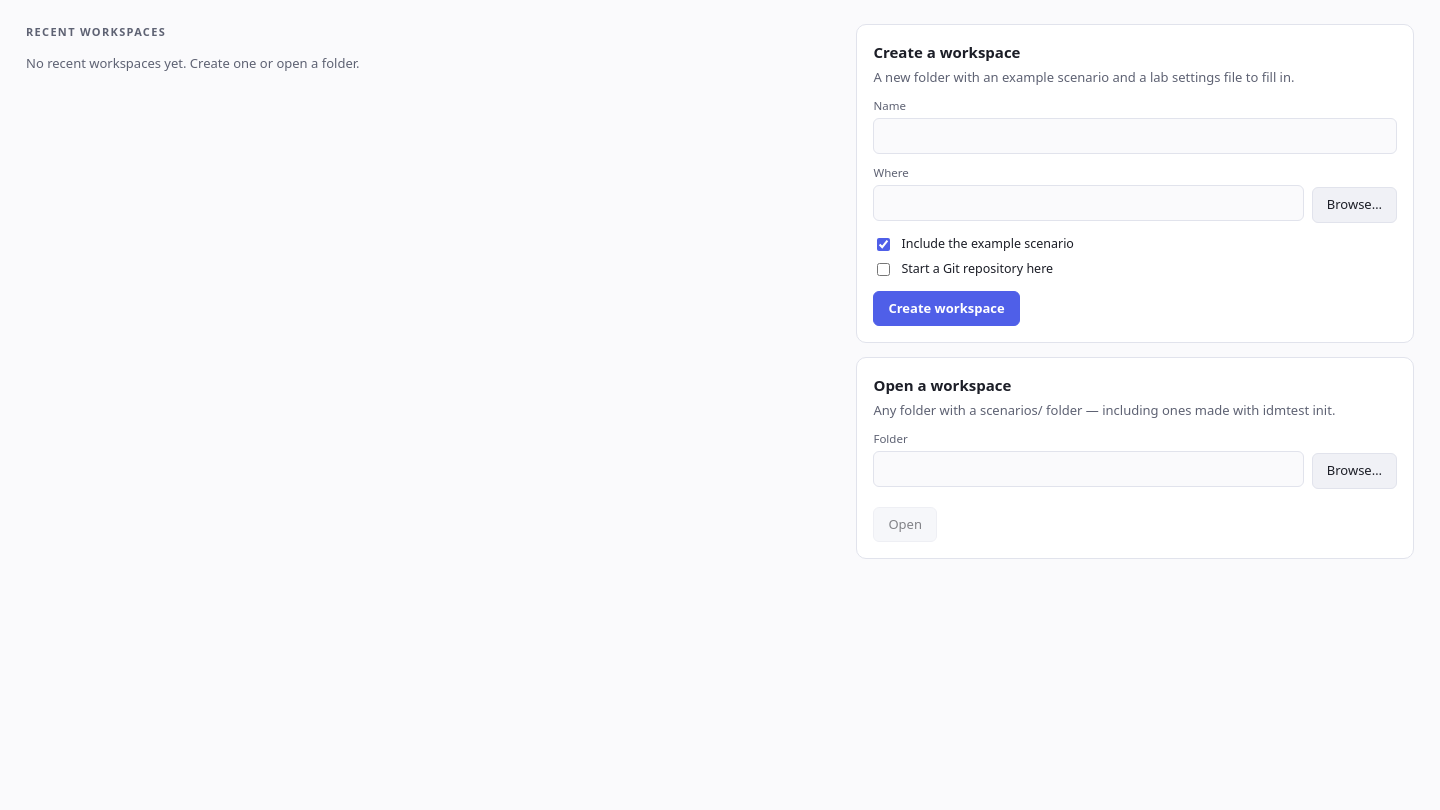
Test: StartPage › shows the server's not-a-workspace message, sent in the page's language
In the field labelled "Folder": (1089, 469) [873,451,1304,487], type "/tmp"
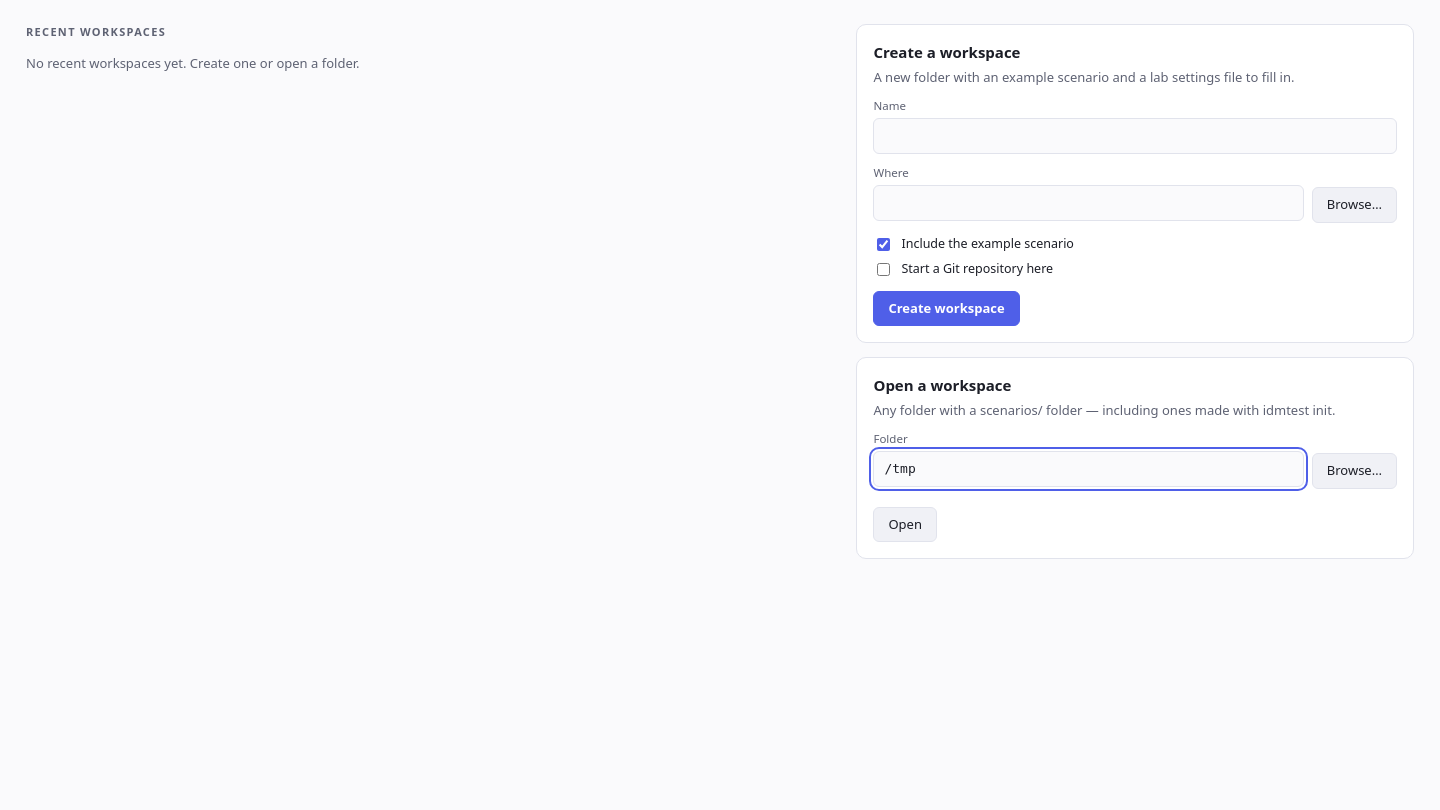
Click the button "Open": (905, 525) [873,507,937,542]
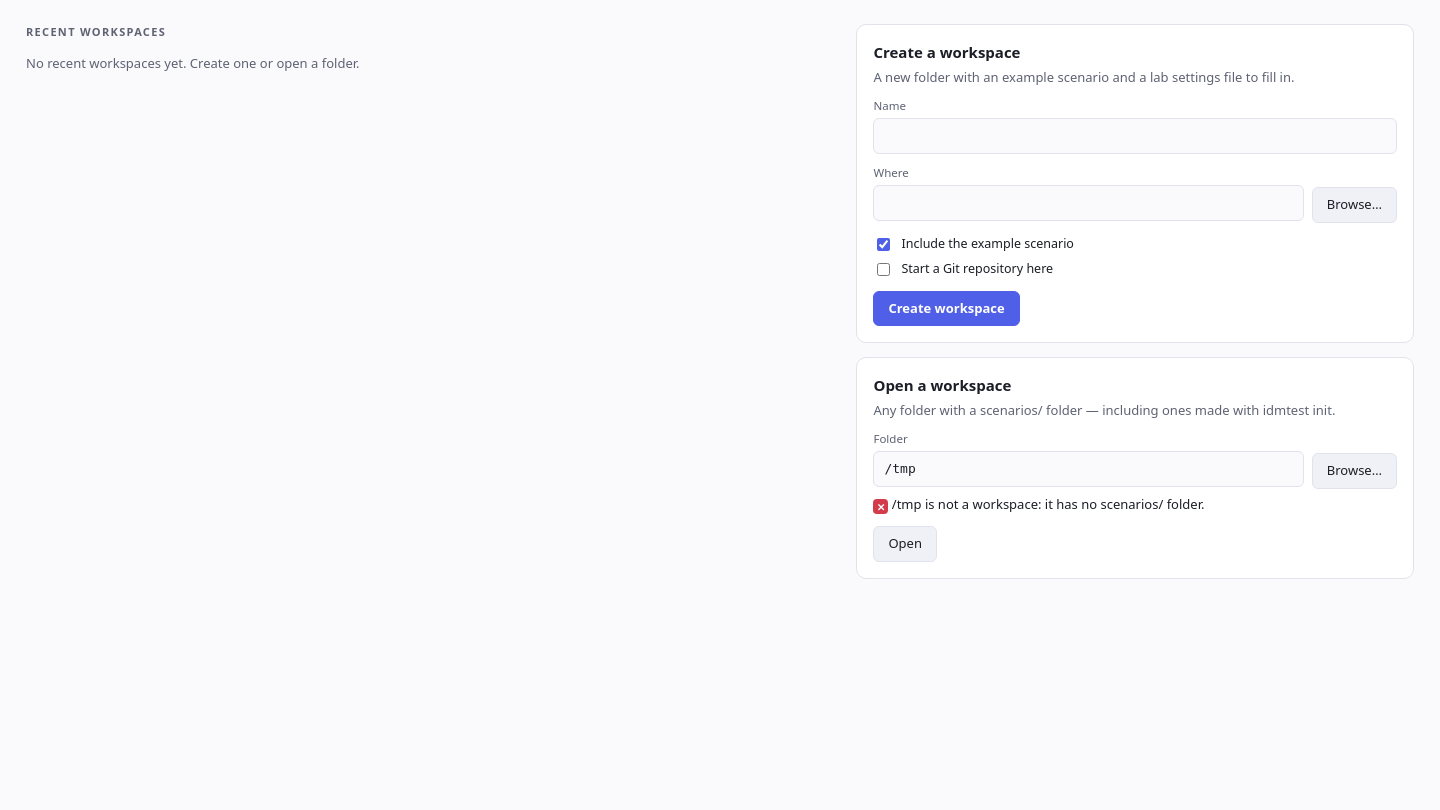
Expected: the message shows "/tmp is not a workspace: it has no scenarios/ folder.", [892,495,1204,513]
